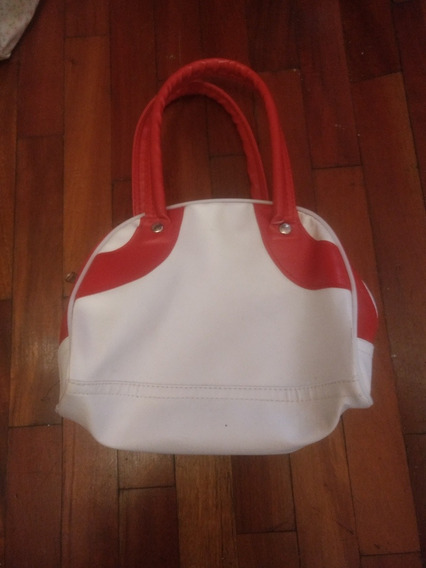cartera: (49, 53, 381, 457)
